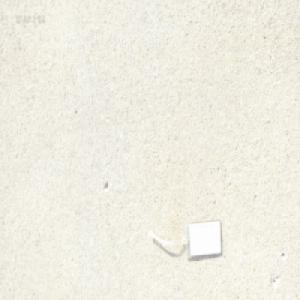LuggageTag: (146, 217, 222, 259)
